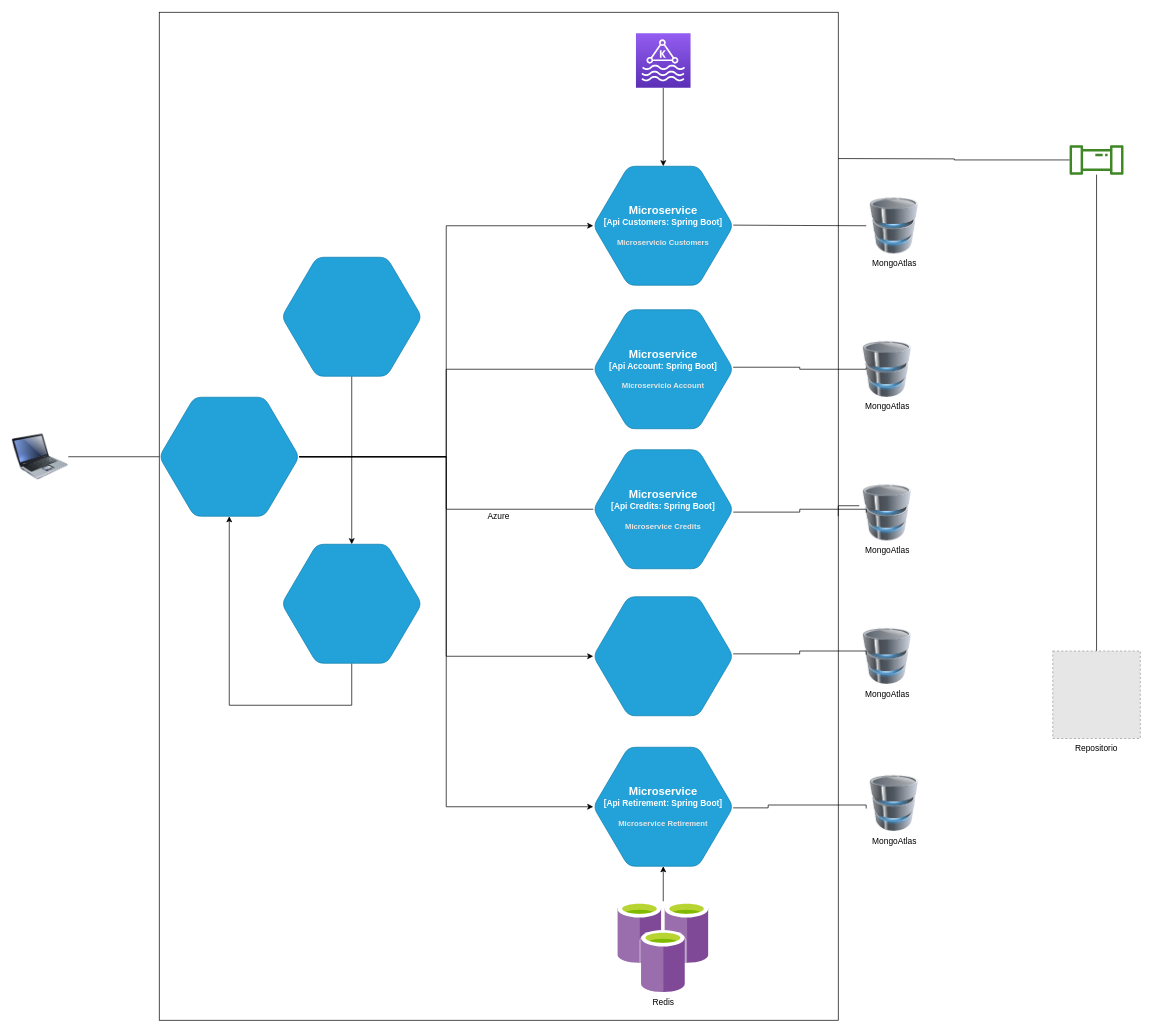
Image size: 1152x1033. Some labels were removed from this diagram. Grey dashed boxes stand in for pictures. The centre of each missing label's shape, as x and y in pixels:
Github Actions: point (1096, 159)
Kafka: point (663, 60)
Microservice [Api Deposit: Spring Boot] Microservice Deposit: point (663, 656)
Microservice [ApiGateway: Spring Cloud] ApiGateway: point (229, 456)
Microservice [Config Server: Spring Cloud] Microservicio: point (351, 316)
Microservice [ServiceDiscovery: Spring Cloud] ServiceDiscovery: point (351, 603)
